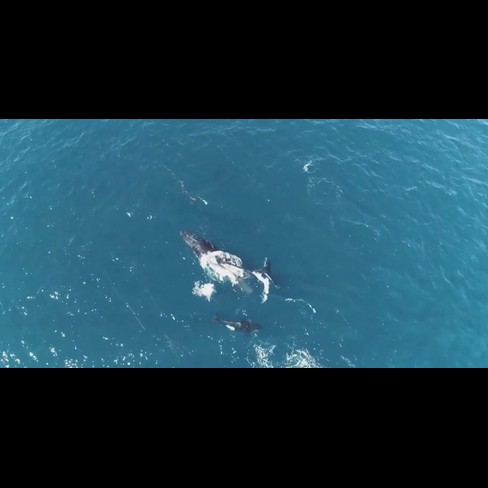orca: (174, 222, 284, 311), (204, 310, 275, 342)
